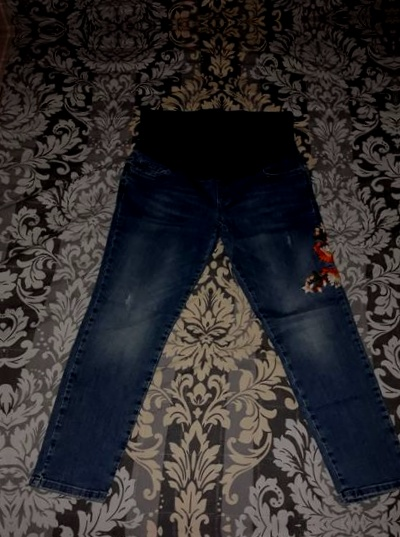Pants: (31, 78, 399, 514)
